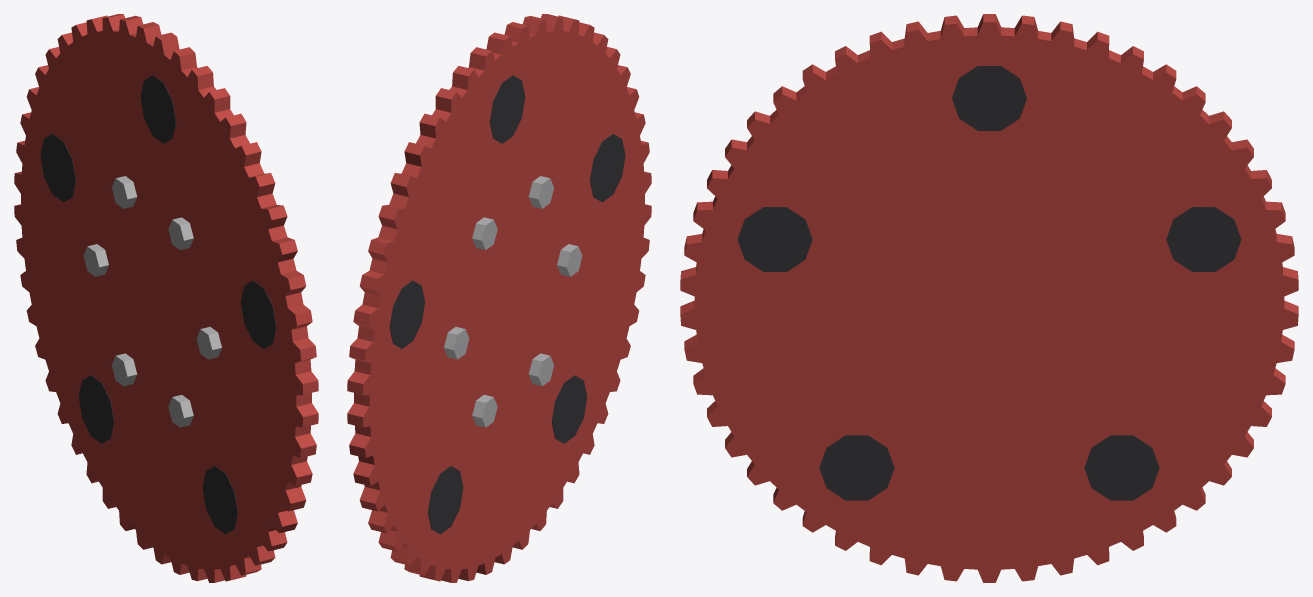
The model's file is rear_50.glb.
3 renders of one model, left to right at view 1: azimuth 30°, elevation 25°; view 2: azimuth 150°, elevation 25°; view 3: azimuth 270°, elevation 25°, orthographic. The views are drawn at different scales.
Parts seen in each view (by area): view 1: lod0; view 2: lod0; view 3: lod0.
Boxes of the visible parts, left/top/right/bottom form: lod0: left=14, top=14, right=318, bottom=582; lod0: left=347, top=14, right=651, bottom=582; lod0: left=680, top=14, right=1298, bottom=582.
Size of what is drawn, in the model's own units: 0.0137 by 0.2558 by 0.2556.
